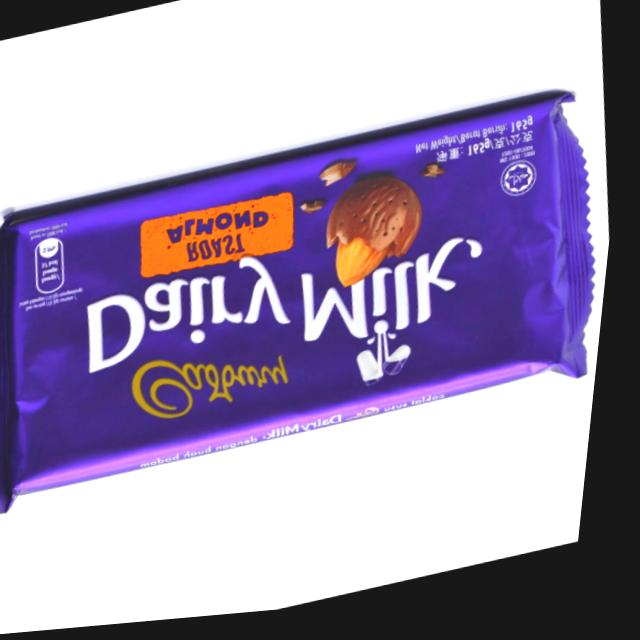cadbury: (0, 103, 604, 498), (130, 337, 314, 434), (318, 173, 449, 285)
